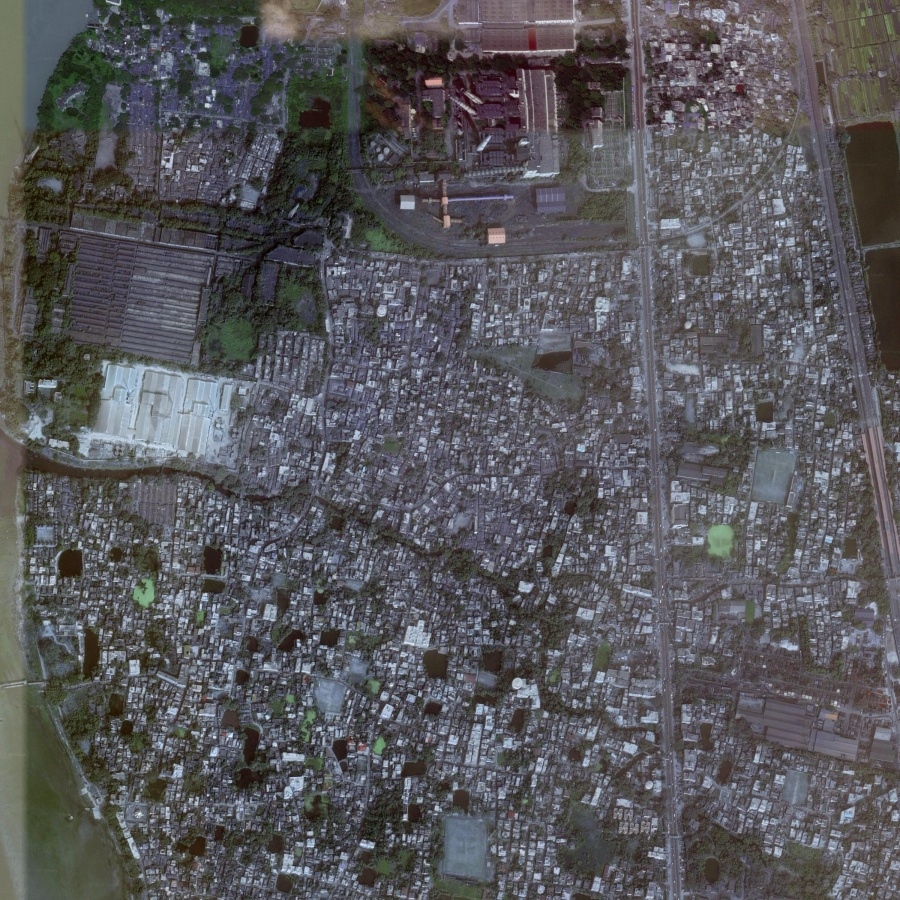PowerPlant: (354, 4, 599, 243)
